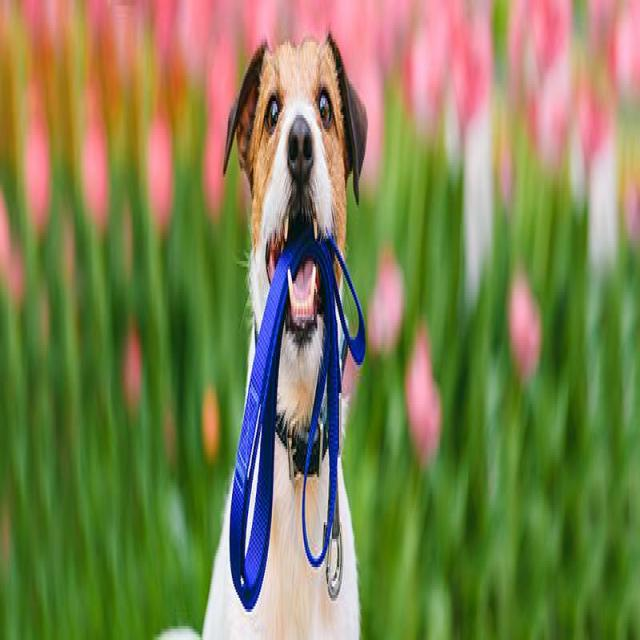Dog: (220, 16, 372, 464)
